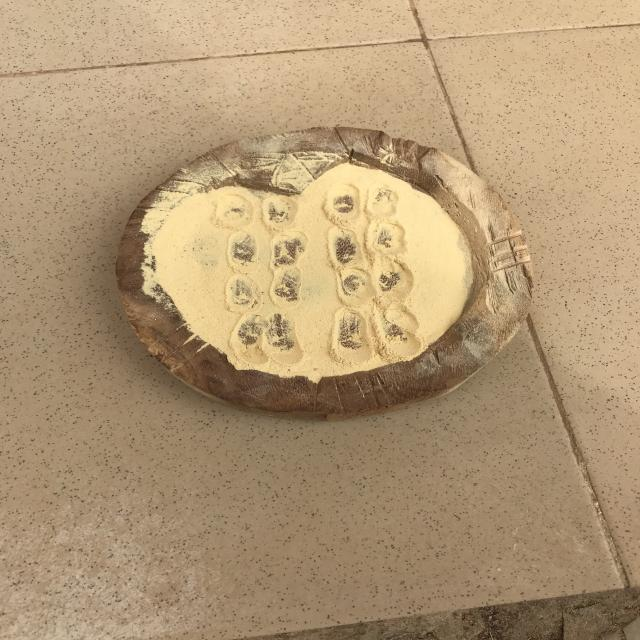double: (328, 308, 422, 367), (228, 316, 304, 366), (210, 192, 300, 234), (320, 182, 400, 224), (332, 265, 417, 304), (224, 274, 304, 312), (225, 235, 302, 272), (325, 227, 401, 262)
